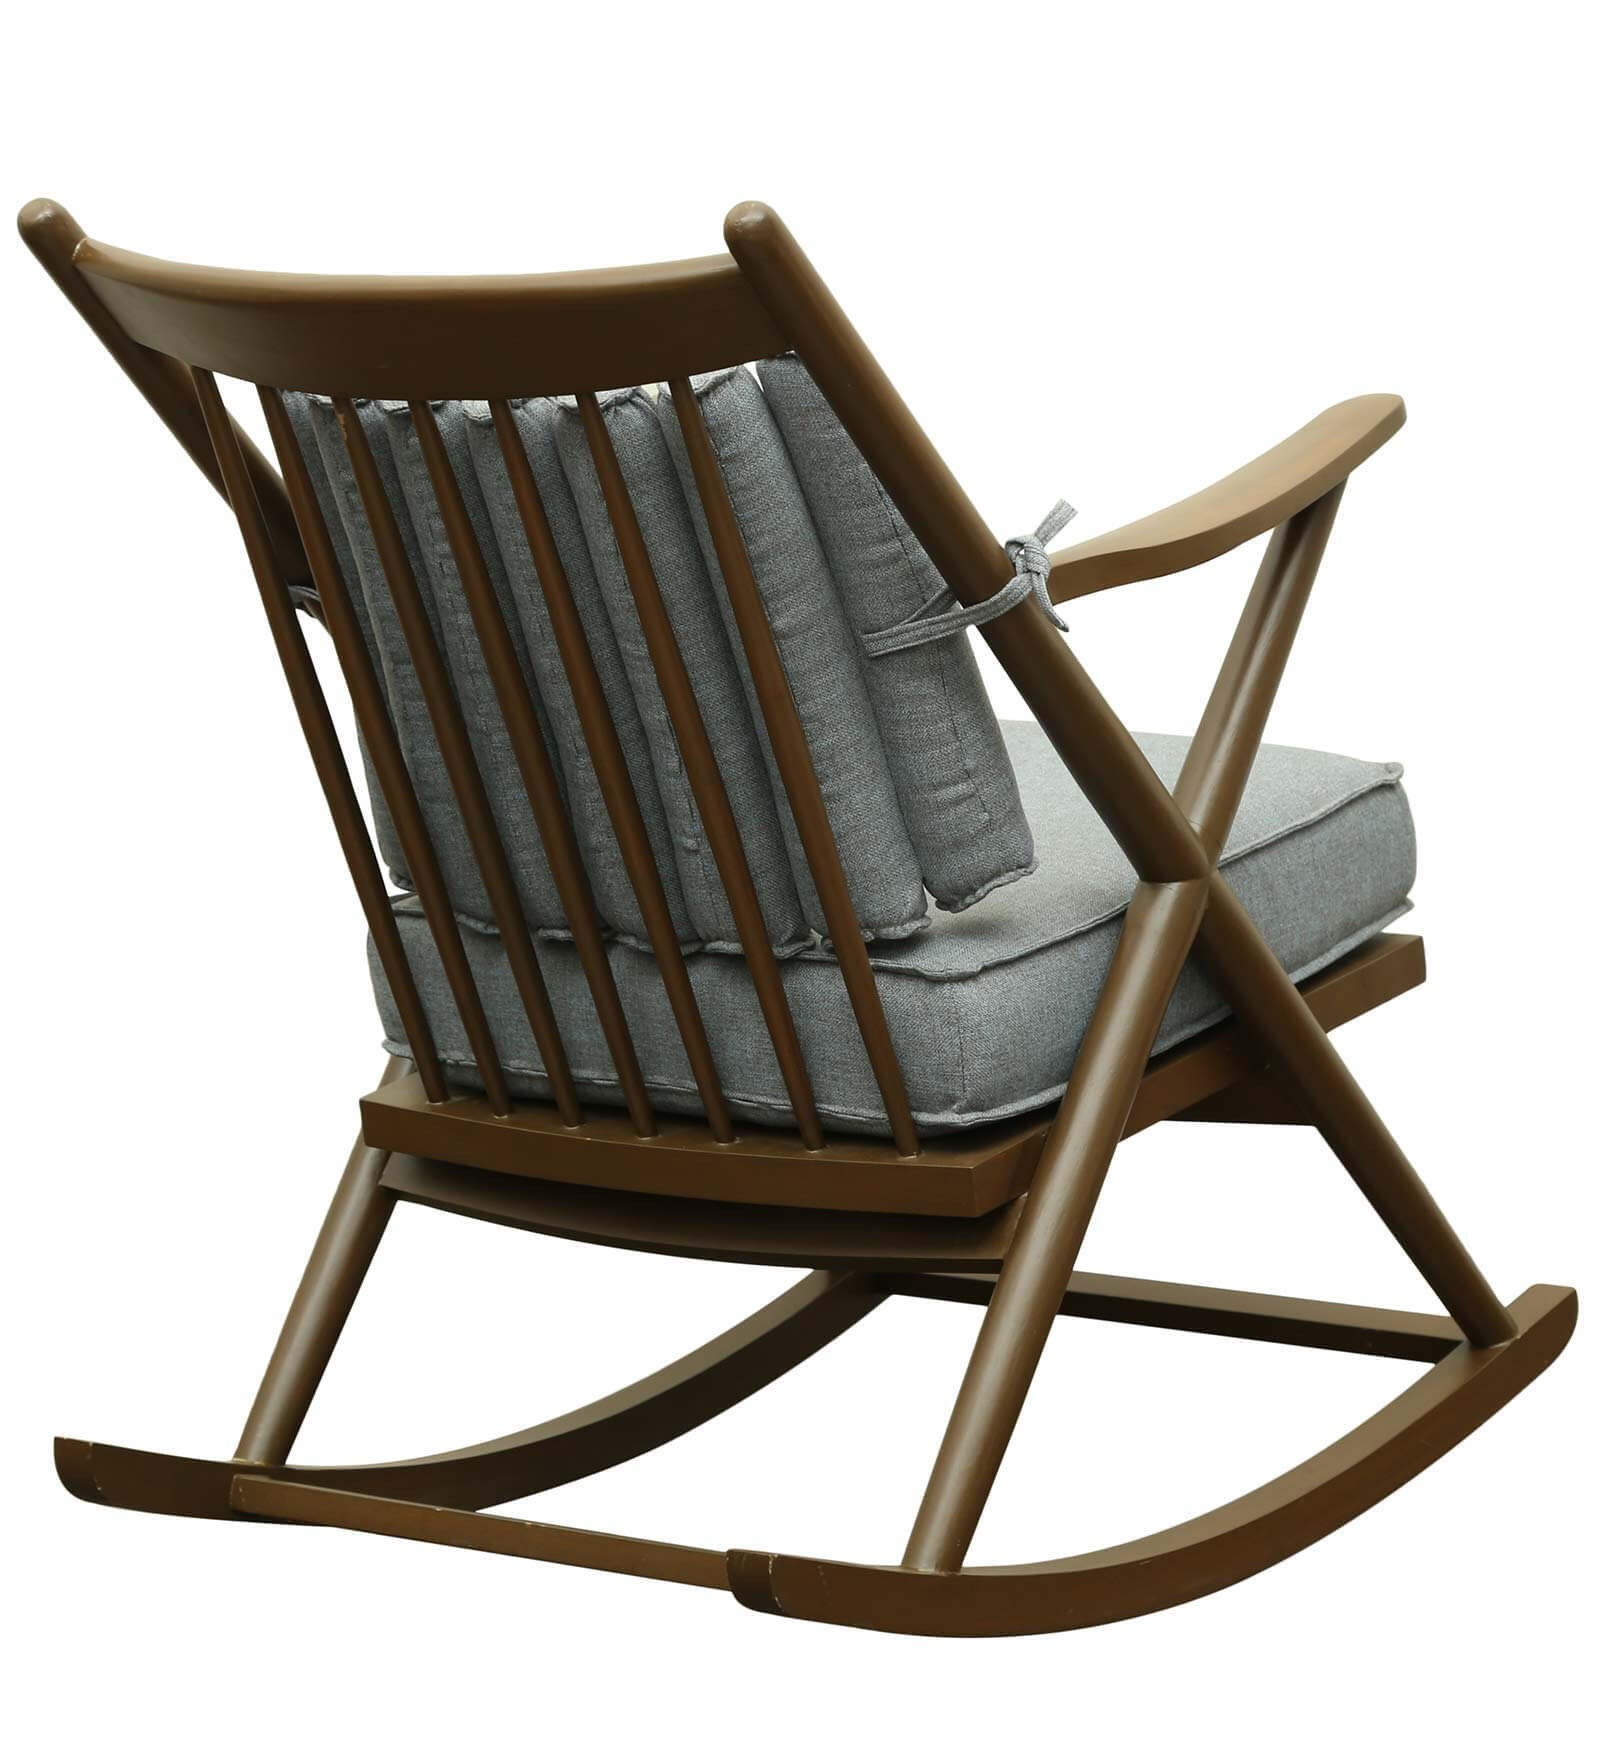Standard Rocking Chair in Grey & Brown Colour Combo by INDOORS: (8, 167, 1600, 1656)
